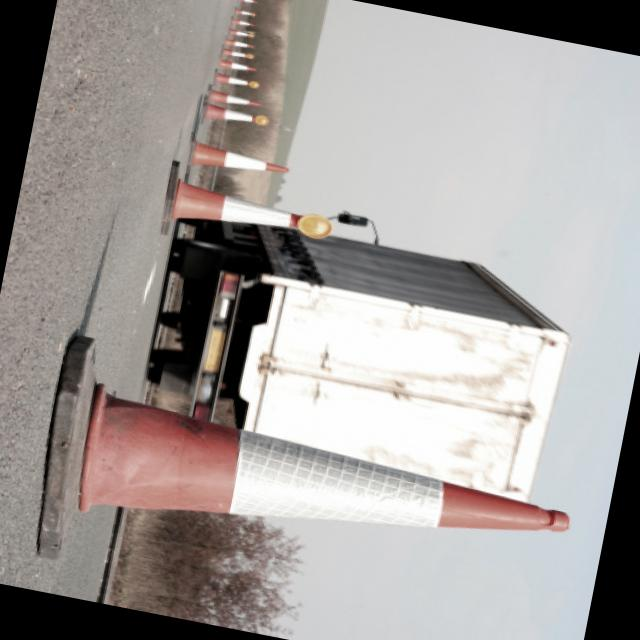cone: (0, 331, 597, 640)
